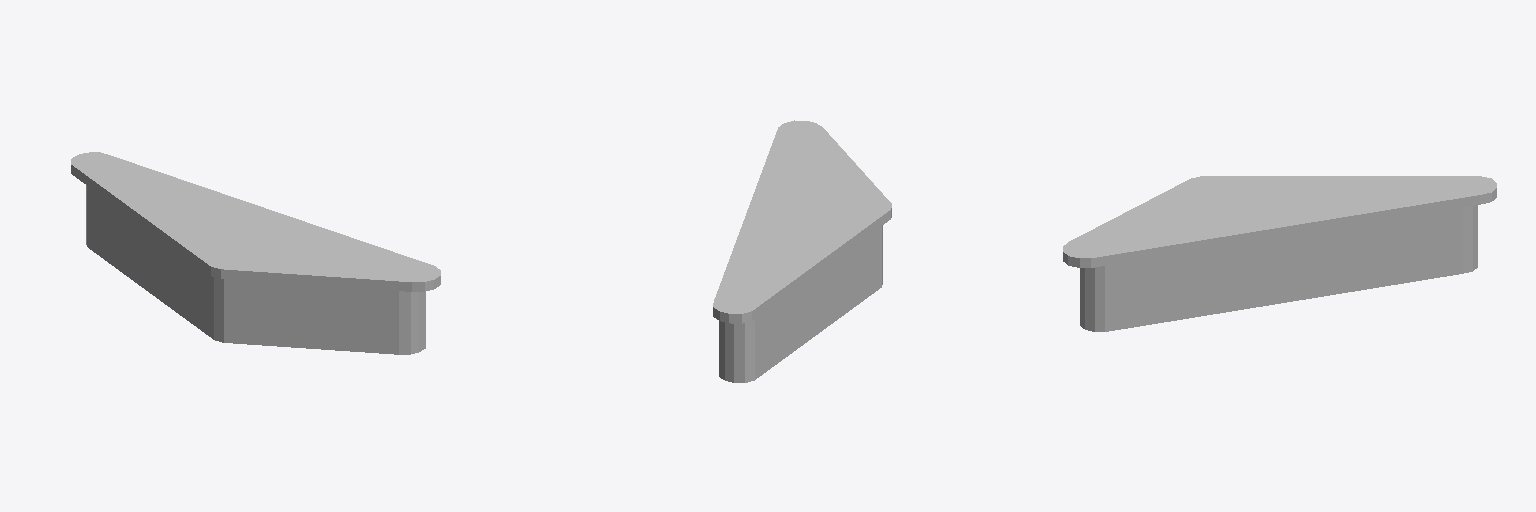
The model's file is slingshot.obj.
3 renders of one model, left to right at view 1: azimuth 30°, elevation 25°; view 2: azimuth 150°, elevation 25°; view 3: azimuth 270°, elevation 25°, orthographic.
Visible parts, largest first — view 1: Cube; view 2: Cube; view 3: Cube.
Boxes of the visible parts, x1=… form: Cube: x1=71, y1=152, x2=440, y2=354; Cube: x1=713, y1=120, x2=891, y2=382; Cube: x1=1063, y1=176, x2=1496, y2=331.
Size of the model in its own units: 1.15 by 0.5021 by 2.55.